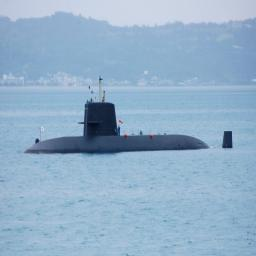submarine: (26, 100, 236, 156)
